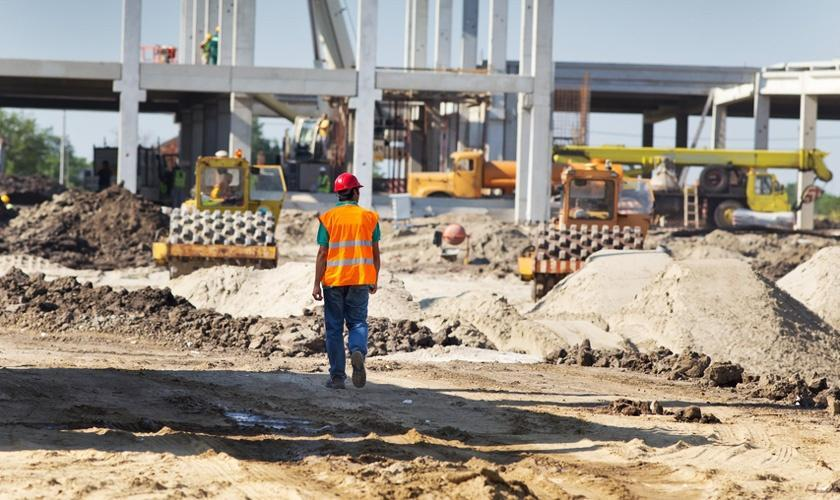helmet: (328, 170, 365, 193)
person: (308, 163, 387, 394)
vest: (313, 198, 380, 292)
